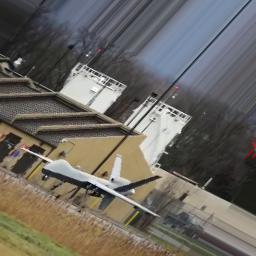reaper: (40, 138, 167, 226)
